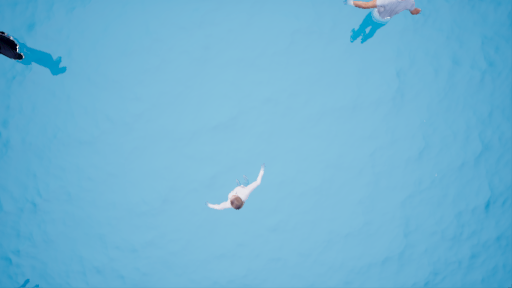person: (1, 27, 83, 81), (340, 2, 425, 49), (195, 165, 273, 210)
